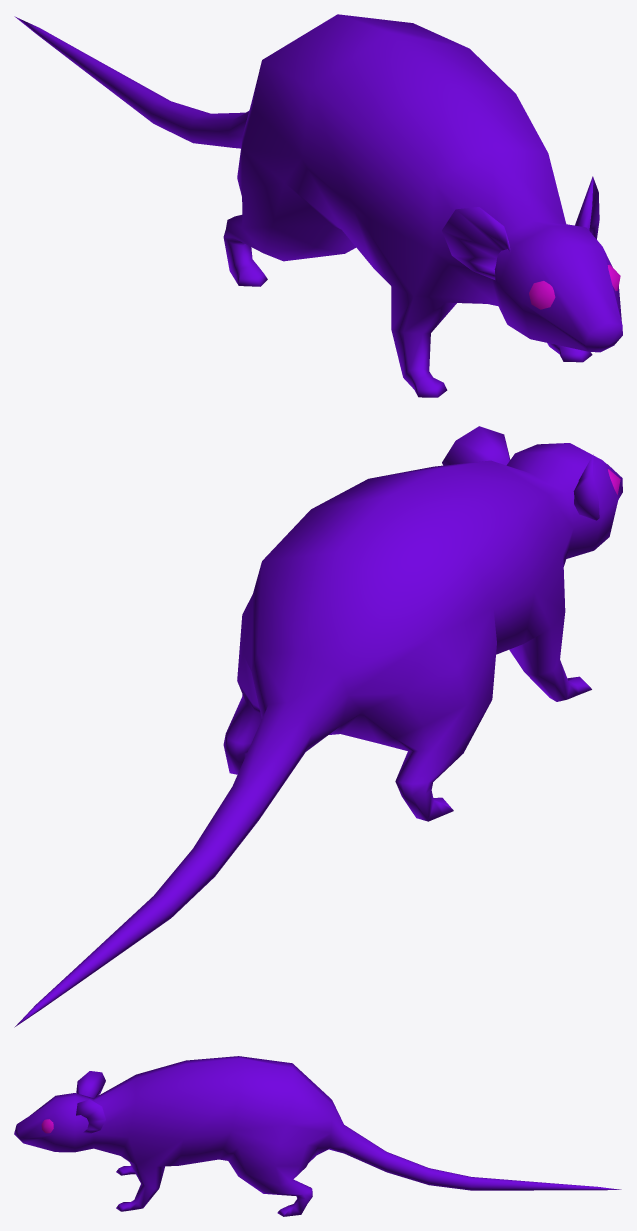
The model's file is Rat.fbx.
3 renders of one model, top to bottom at view 1: azimuth 30°, elevation 25°; view 2: azimuth 150°, elevation 25°; view 3: azimuth 270°, elevation 25°, orthographic. The views are drawn at different scales.
Parts seen in each view (by area): view 1: GEO-Rat; view 2: GEO-Rat; view 3: GEO-Rat.
Boxes of the visible parts, bbox=[...] form: GEO-Rat: bbox=[14, 14, 622, 397]; GEO-Rat: bbox=[14, 426, 622, 1027]; GEO-Rat: bbox=[14, 1056, 621, 1216].
Size of the model in its own units: 15.97 by 17.47 by 73.26.
